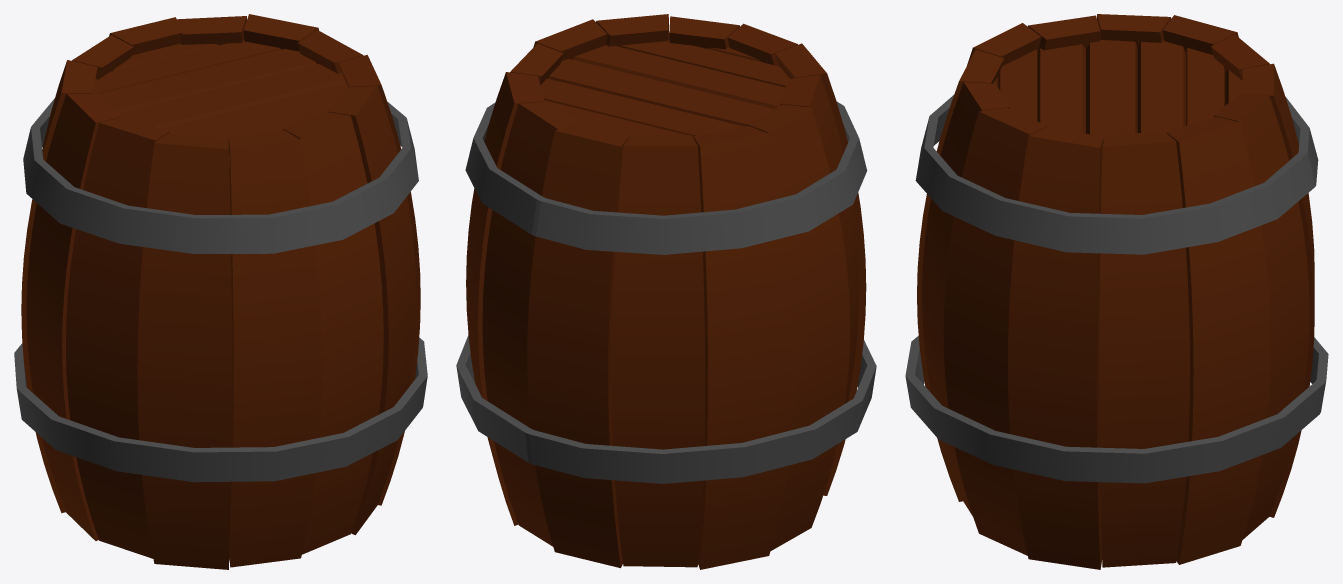
Rendered from Barril.FBX.
The picture shows the model from 3 angles, left to right: view 1: azimuth 30°, elevation 25°; view 2: azimuth 150°, elevation 25°; view 3: azimuth 270°, elevation 25°; orthographic projection.
Visible parts, largest first — view 1: Barril; view 2: Barril; view 3: Barril.
Boxes of the visible parts, x1=… form: Barril: x1=14, y1=14, x2=427, y2=569; Barril: x1=456, y1=14, x2=876, y2=569; Barril: x1=905, y1=14, x2=1328, y2=569.
Size of the model in its own units: 30.94 by 34.22 by 30.97.
